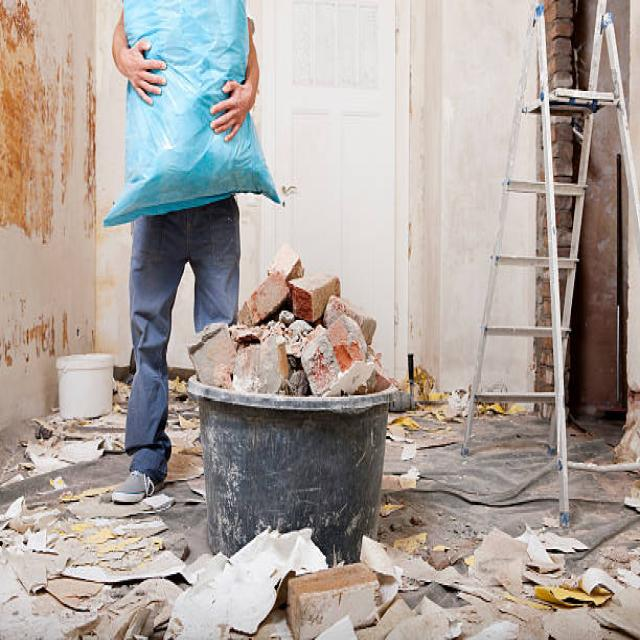trash: (197, 306, 621, 604), (127, 9, 274, 215)
